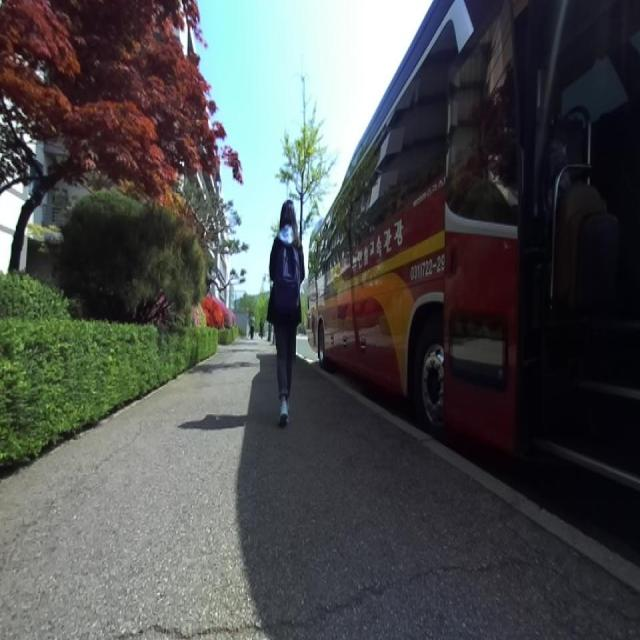sidewalk: (0, 338, 640, 639)
